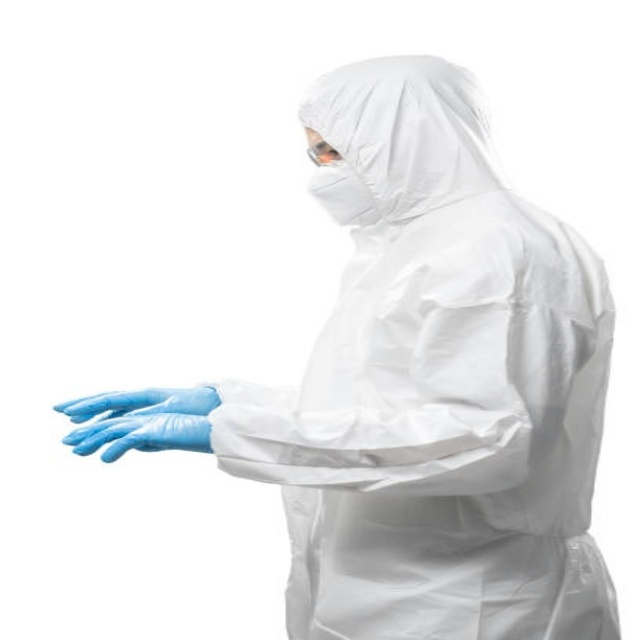Gafas: (307, 141, 341, 167)
Guantes: (55, 411, 210, 464), (55, 386, 221, 423)
Mascara: (308, 157, 386, 226)
